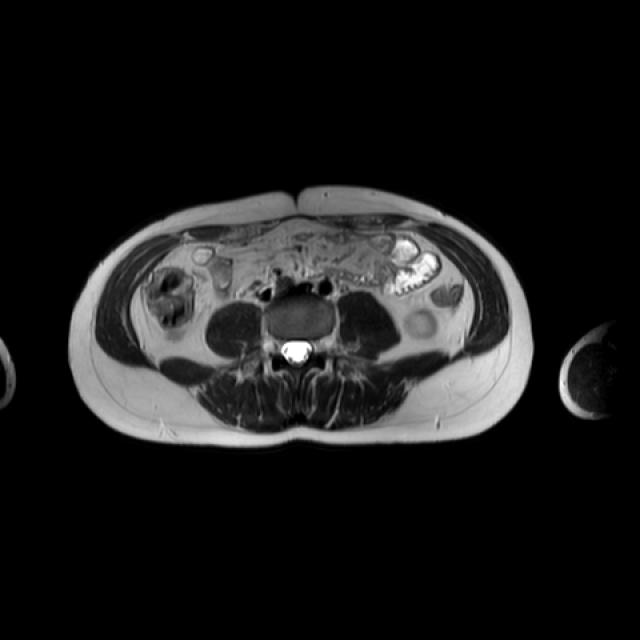sol: (403, 309, 438, 339)
